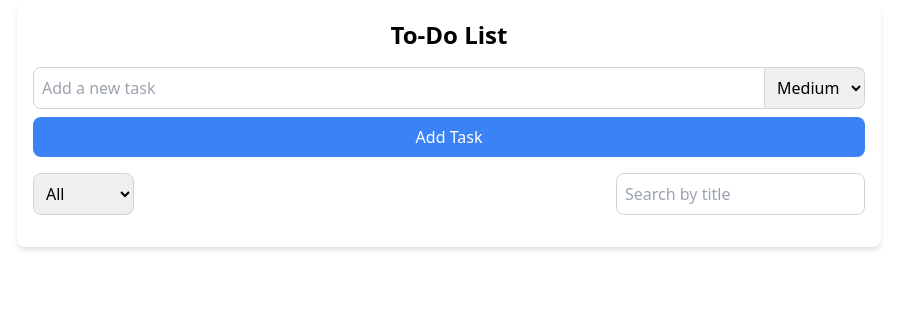
Test: allows users to add a task - high
Type "New Task" into the field with placeholder "Add a new task".
click(399, 88); type("New Task")  # box [33,67,765,109]
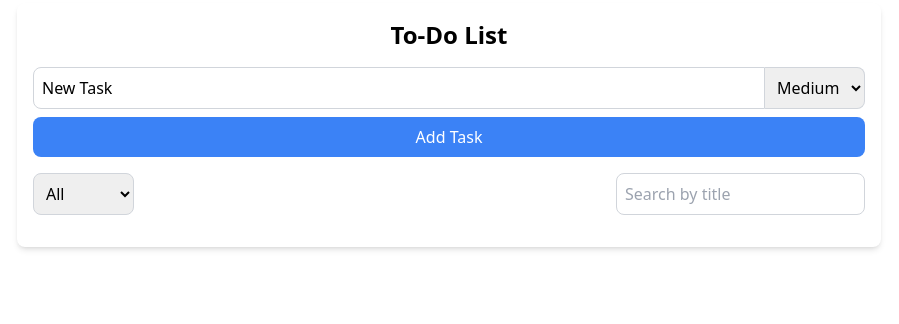
Select "High" in the 1st dropdown showing "Medium" at point(815, 88), box [765,67,865,109]
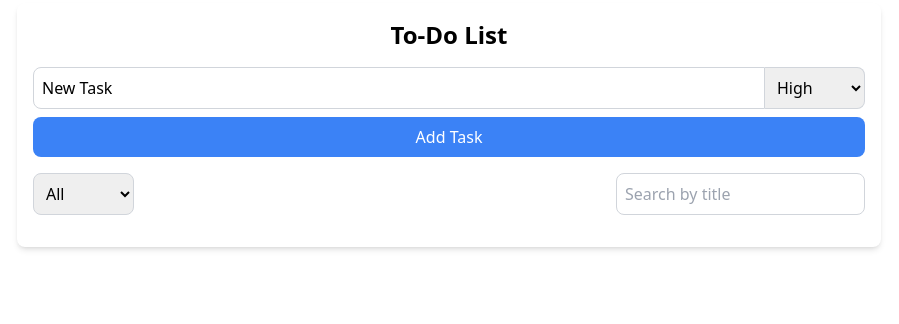
Click the button "Add Task".
click(449, 137)  # box [33,117,865,157]
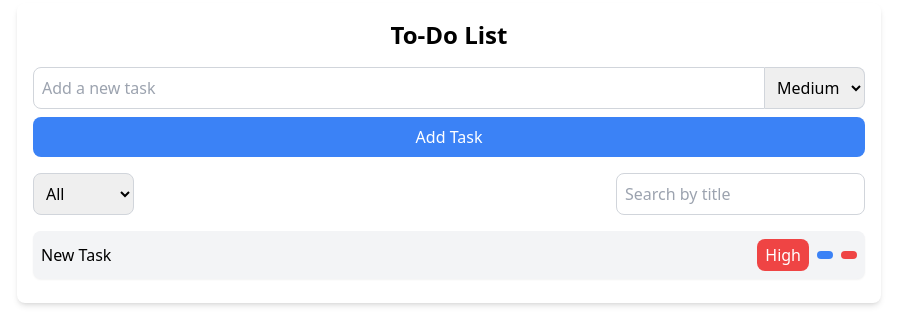
Check: the text "New Task" is shown, box [41,244,111,266]
Check: the text "High" is shown, box [757,239,809,271]
